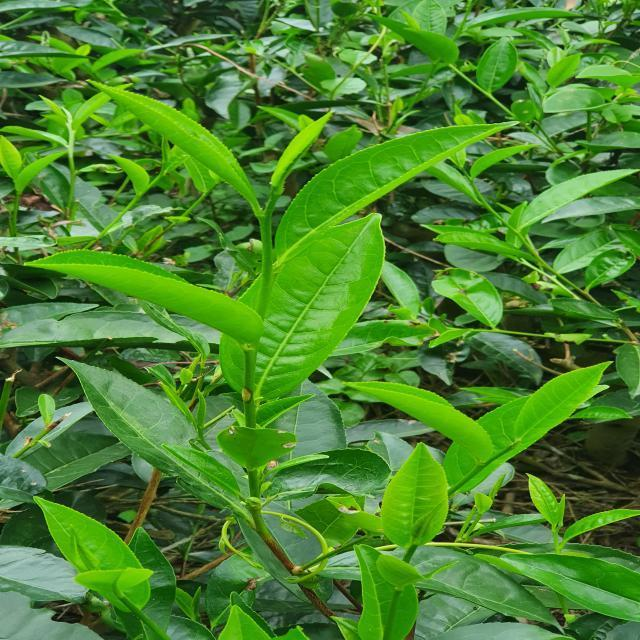Stem: (258, 215, 272, 235)
